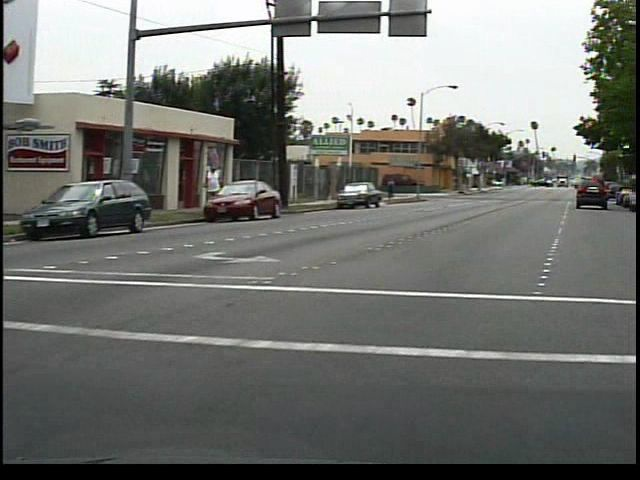person: (204, 159, 231, 217), (390, 175, 405, 202)
